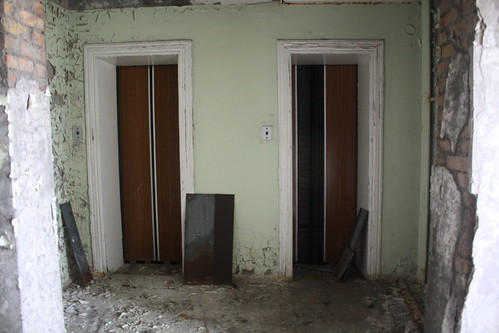door: (85, 40, 202, 280), (286, 40, 381, 284)
wall: (1, 2, 78, 320), (425, 8, 499, 333)
